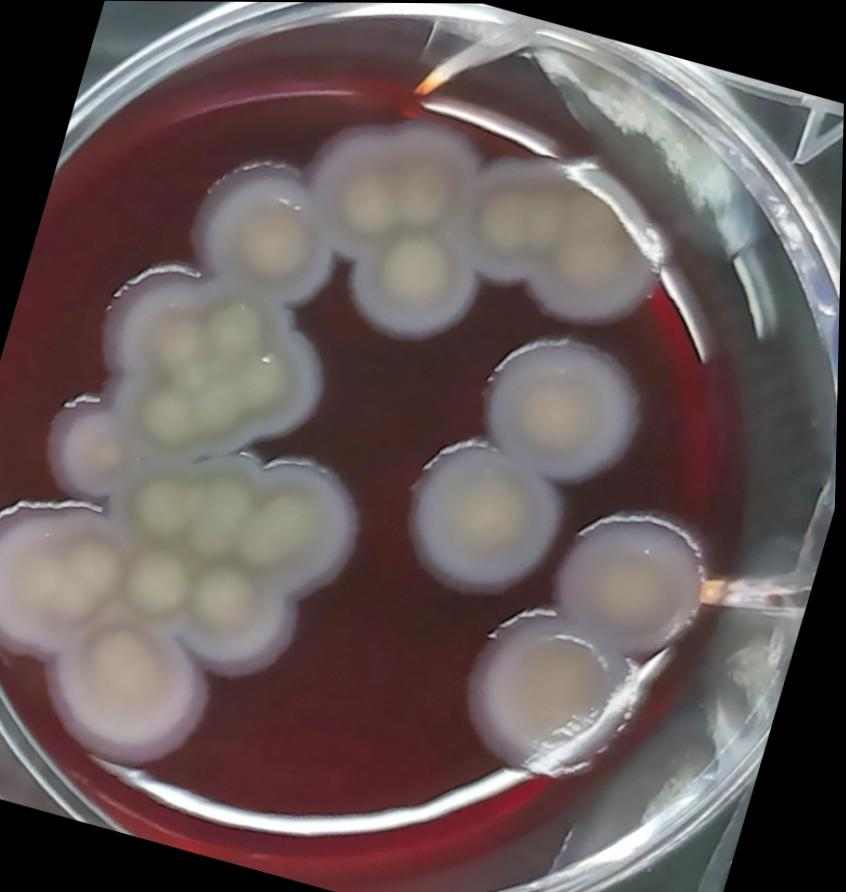bcereus: (70, 245, 351, 482), (448, 126, 696, 346), (445, 596, 657, 791), (27, 591, 234, 789), (381, 427, 586, 622), (463, 309, 667, 501), (540, 487, 738, 670), (166, 139, 365, 321), (0, 473, 136, 684), (213, 439, 381, 607), (162, 538, 329, 698), (338, 212, 495, 360), (356, 105, 495, 248), (290, 117, 427, 253), (30, 381, 155, 514), (167, 438, 288, 574), (96, 528, 220, 646), (106, 447, 220, 558)
